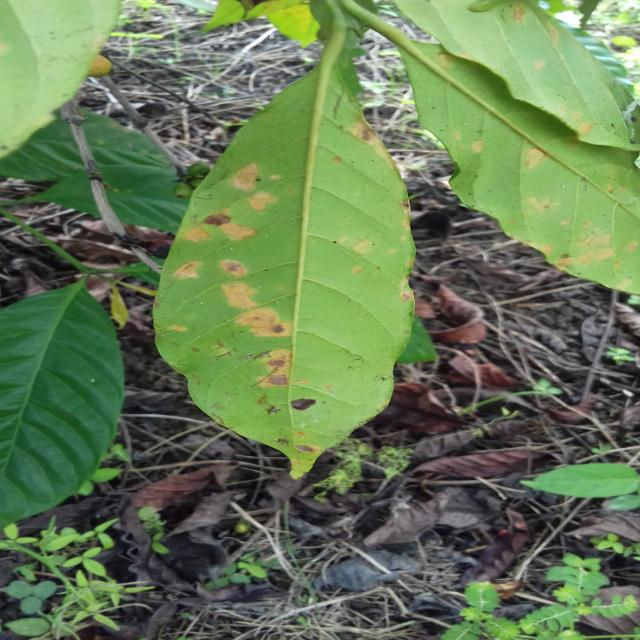Enfermedad-Roya: (153, 25, 436, 473)
